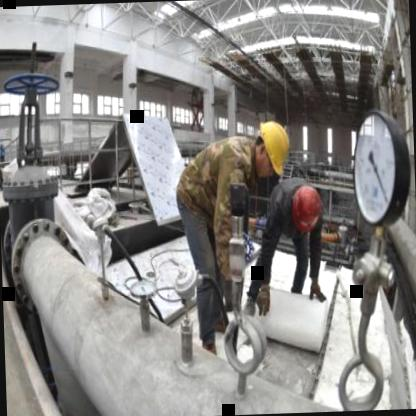helmet: (252, 113, 292, 184), (288, 180, 323, 236)
